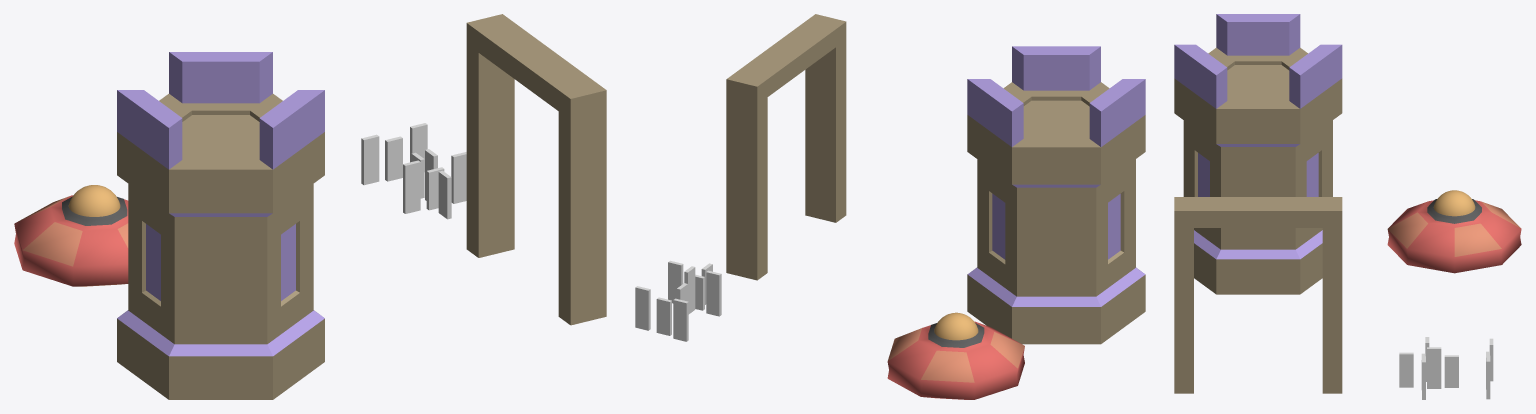
File: AssetsObjects.fbx
3 renders of one model, left to right at view 1: azimuth 30°, elevation 25°; view 2: azimuth 150°, elevation 25°; view 3: azimuth 270°, elevation 25°, orthographic. The views are drawn at different scales.
Parts seen in each view (by area): view 1: Tower, Portal, Mob, Grass, Grass2; view 2: Tower, Portal, Mob, Grass, Grass2; view 3: Tower, Portal, Mob, Grass, Grass2.
Part boxes in pixels (bbox=[...]): Tower: bbox=[117, 52, 324, 399]; Portal: bbox=[466, 14, 606, 325]; Mob: bbox=[14, 185, 128, 286]; Grass: bbox=[403, 149, 466, 219]; Grass2: bbox=[361, 123, 427, 185]; Tower: bbox=[967, 46, 1145, 344]; Portal: bbox=[726, 14, 846, 280]; Mob: bbox=[887, 312, 1024, 399]; Grass: bbox=[668, 260, 721, 316]; Grass2: bbox=[635, 286, 688, 341]; Tower: bbox=[1174, 14, 1342, 294]; Portal: bbox=[1174, 197, 1342, 393]; Mob: bbox=[1387, 190, 1521, 273]; Grass: bbox=[1399, 337, 1458, 399]; Grass2: bbox=[1486, 338, 1493, 399].
Size of the model in its own units: 475 by 288 by 414.
